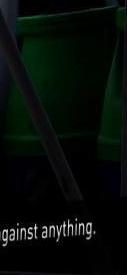cylinder: (1, 0, 127, 275)
